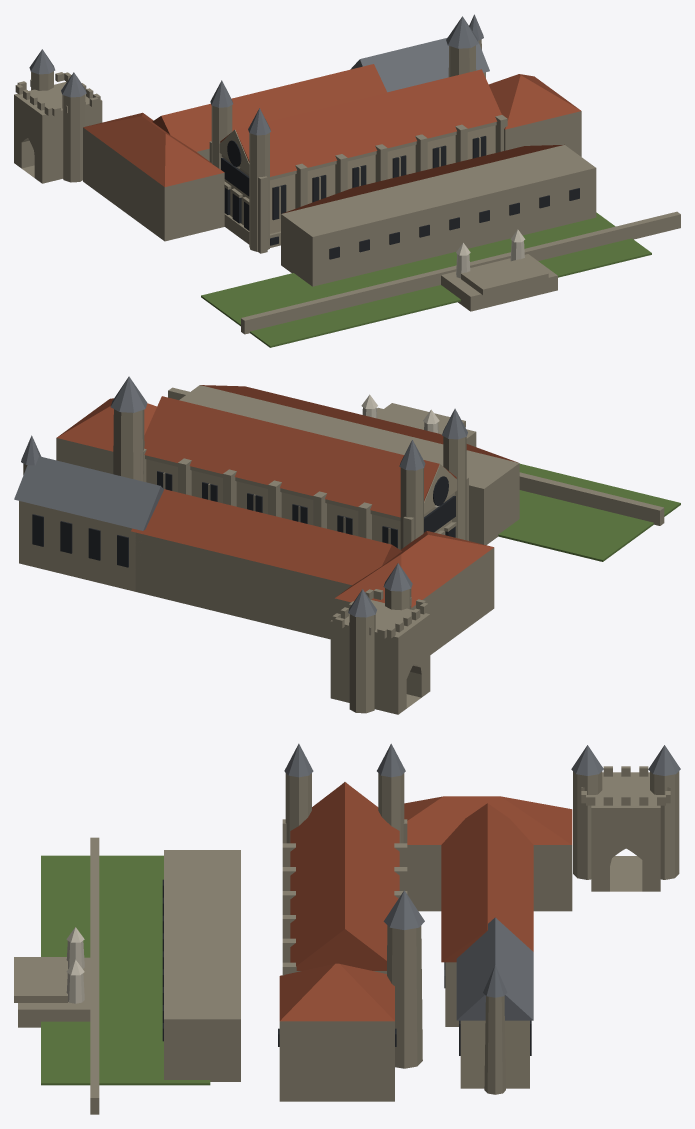
Rendered from winchester_palace.glb.
The picture shows the model from 3 angles, top to bottom: view 1: azimuth 30°, elevation 25°; view 2: azimuth 150°, elevation 25°; view 3: azimuth 270°, elevation 25°; orthographic projection. The views are drawn at different scales.
Parts seen in each view (by area): view 1: winchester_palace; view 2: winchester_palace; view 3: winchester_palace.
Boxes of the visible parts, <box> form: winchester_palace: <box>14,14,680,347</box>; winchester_palace: <box>14,376,680,714</box>; winchester_palace: <box>14,743,680,1114</box>.
Size of the model in its own units: 80 by 25.1 by 86.63.
